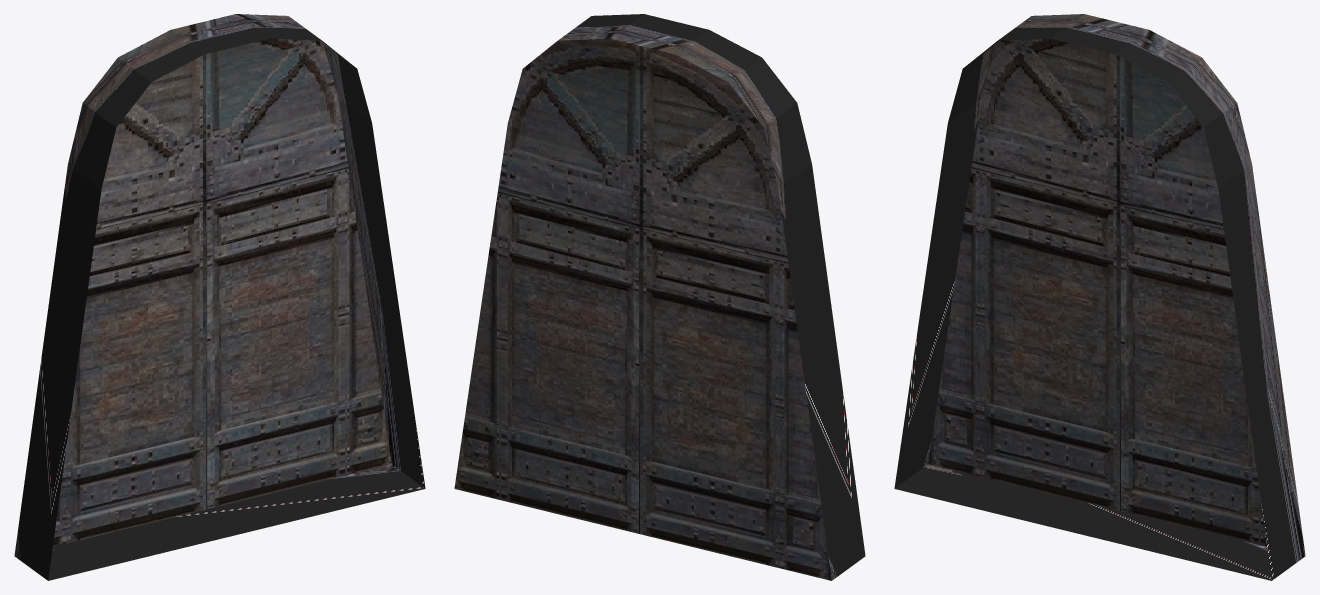
The model's file is gate.fbx.
The picture shows the model from 3 angles, left to right: view 1: azimuth 30°, elevation 25°; view 2: azimuth 150°, elevation 25°; view 3: azimuth 330°, elevation 25°; orthographic projection.
Visible parts, largest first — view 1: Cube.004; view 2: Cube.004; view 3: Cube.004.
Boxes of the visible parts, <box> form: Cube.004: <box>14,14,425,580</box>; Cube.004: <box>454,14,865,580</box>; Cube.004: <box>894,14,1305,580</box>.
Bounding box in the file's own units: 1855 × 2294 × 287.
